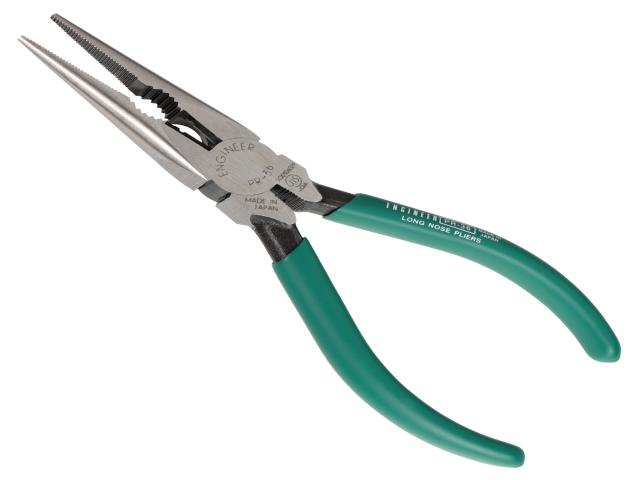Needle-nose pliers: (19, 14, 620, 467)
